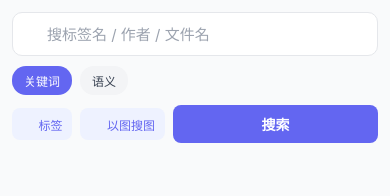
Scenario: SearchScreen（M3） › 以图搜图失败时提示（模型未就绪是常见原因）
Click the text "以图搜图": point(131, 124) x1=107 y1=116 x2=155 y2=132
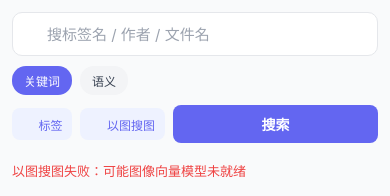
Now the text "以图搜图失败：可能图像向量模型未就绪" is shown, box x1=12 y1=163 x2=246 y2=179
